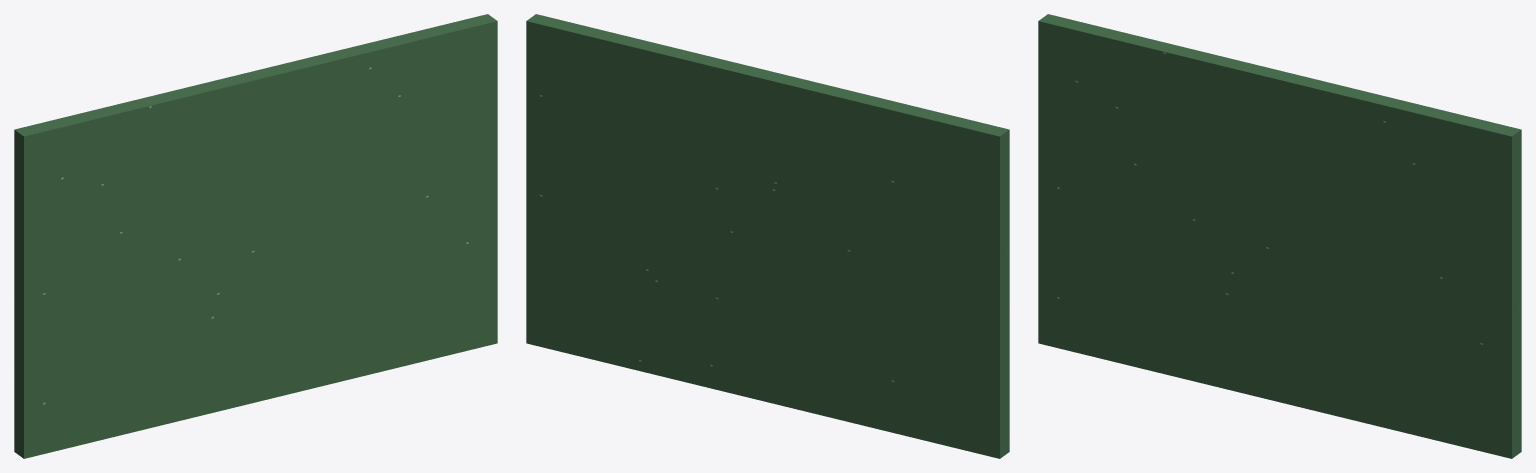
Rendered from ventana1.obj.
3 views of the same model, side by side, from view 1: azimuth 30°, elevation 25°; view 2: azimuth 150°, elevation 25°; view 3: azimuth 330°, elevation 25° (orthographic).
Parts seen in each view (by area): view 1: pasted__pCube23; view 2: pasted__pCube23; view 3: pasted__pCube23.
Boxes of the visible parts, bbox=[...] form: pasted__pCube23: bbox=[14, 14, 497, 458]; pasted__pCube23: bbox=[526, 14, 1009, 458]; pasted__pCube23: bbox=[1038, 14, 1521, 458].
Size of the model in its own units: 8.5 by 5.53 by 0.3009.
Materials: 1 (1 with a texture image).
